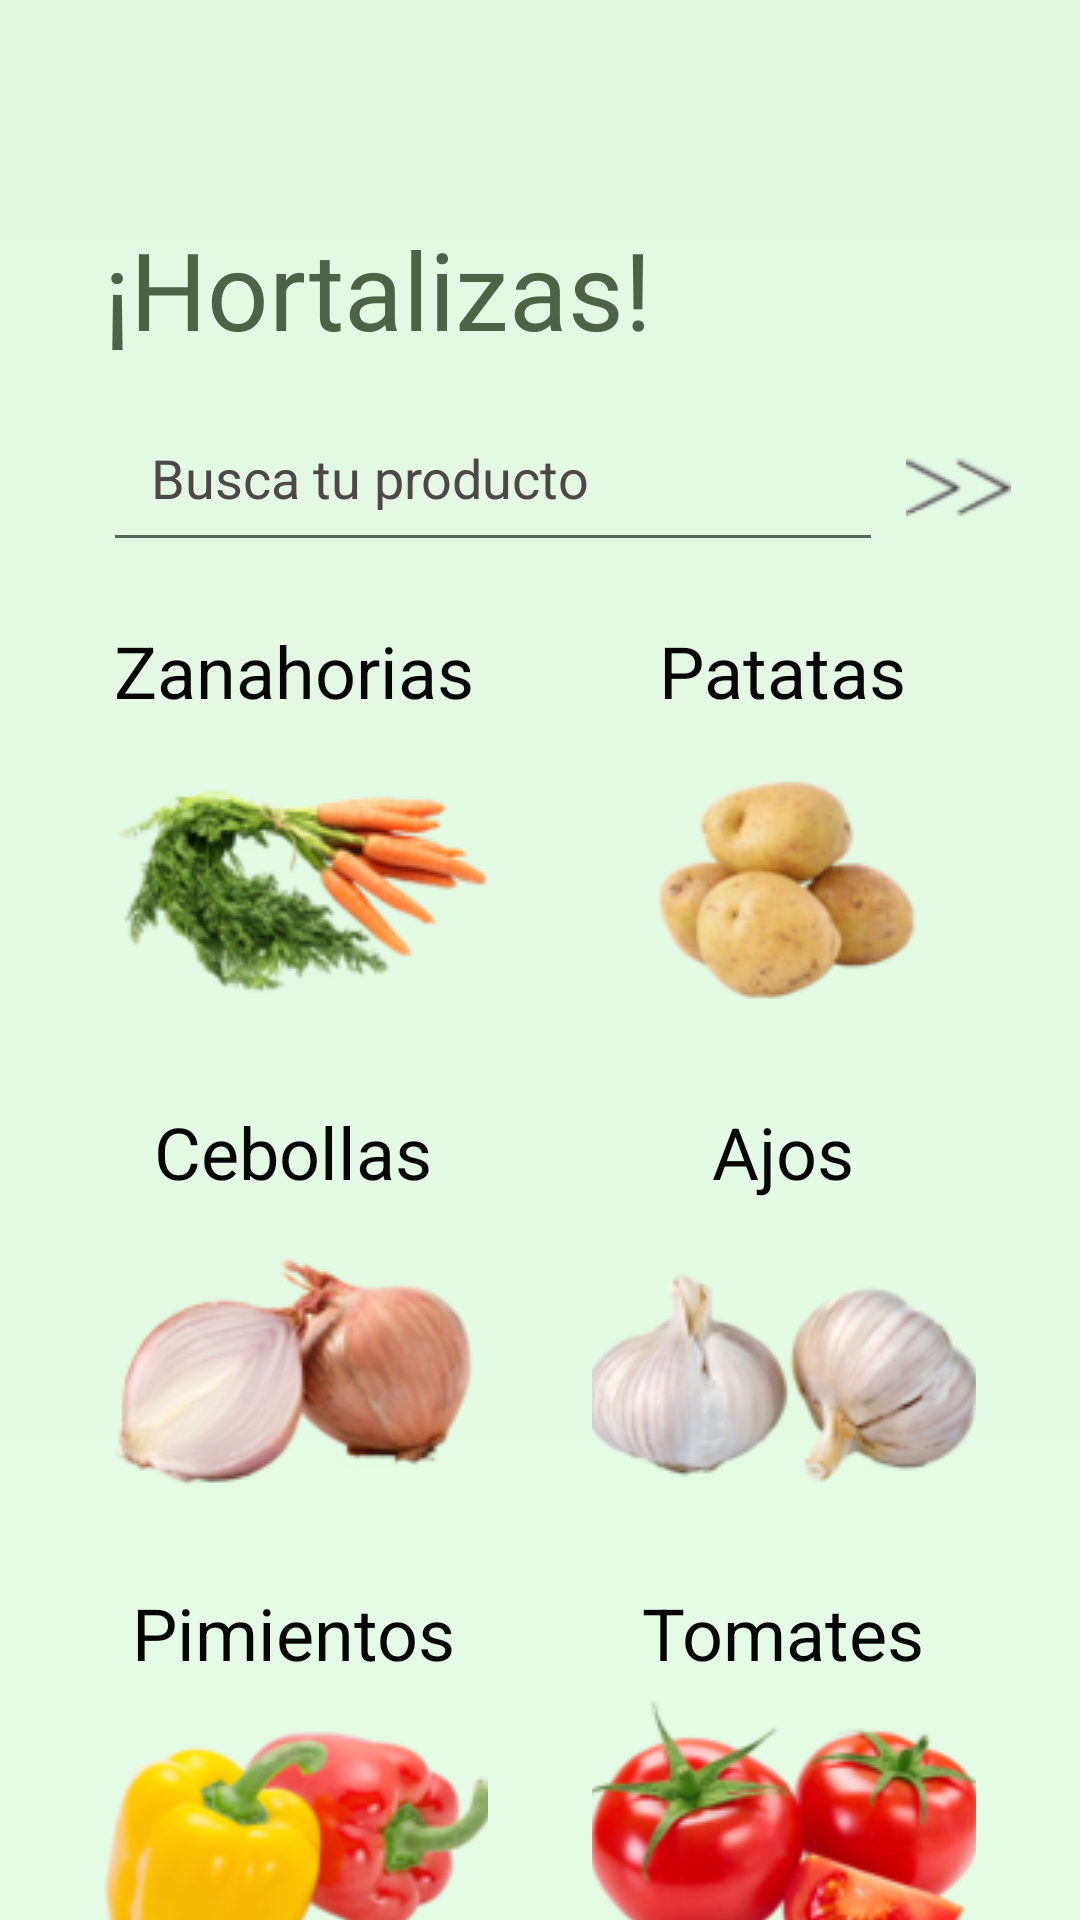

Screen size 1080 x 1920. Icon name, then its box in pixels as (x1, y1, x2, y2):
Boton de flecha: (906, 459, 1011, 516)
